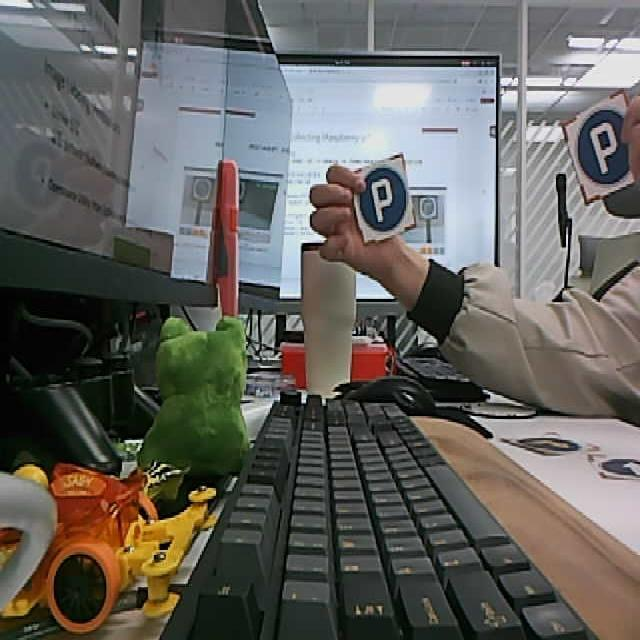parking: (560, 90, 640, 203), (342, 151, 418, 244)
